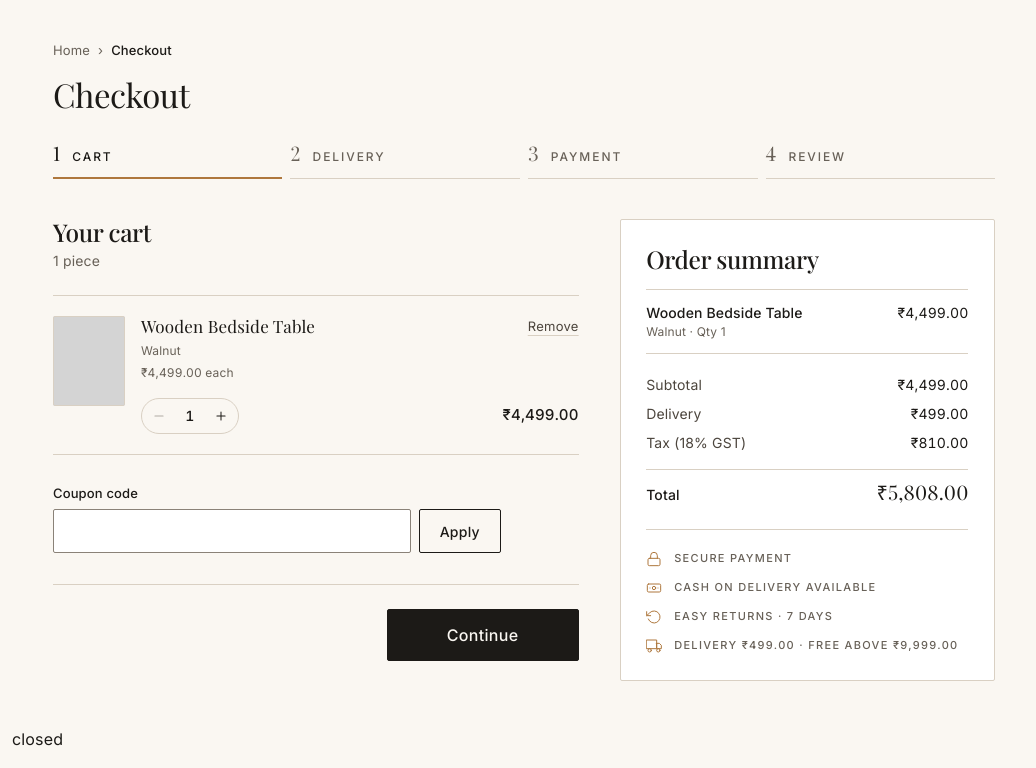
it: step 1: the cart › + raises the quantity through the cart, and the summary follows
The image size is (1036, 768).
Expected: the list named "Our promises" is shown, [646,529,968,654]
Step 1. Click the button named "Increase quantity" → coordinates (221, 416), box [203,398,239,434]
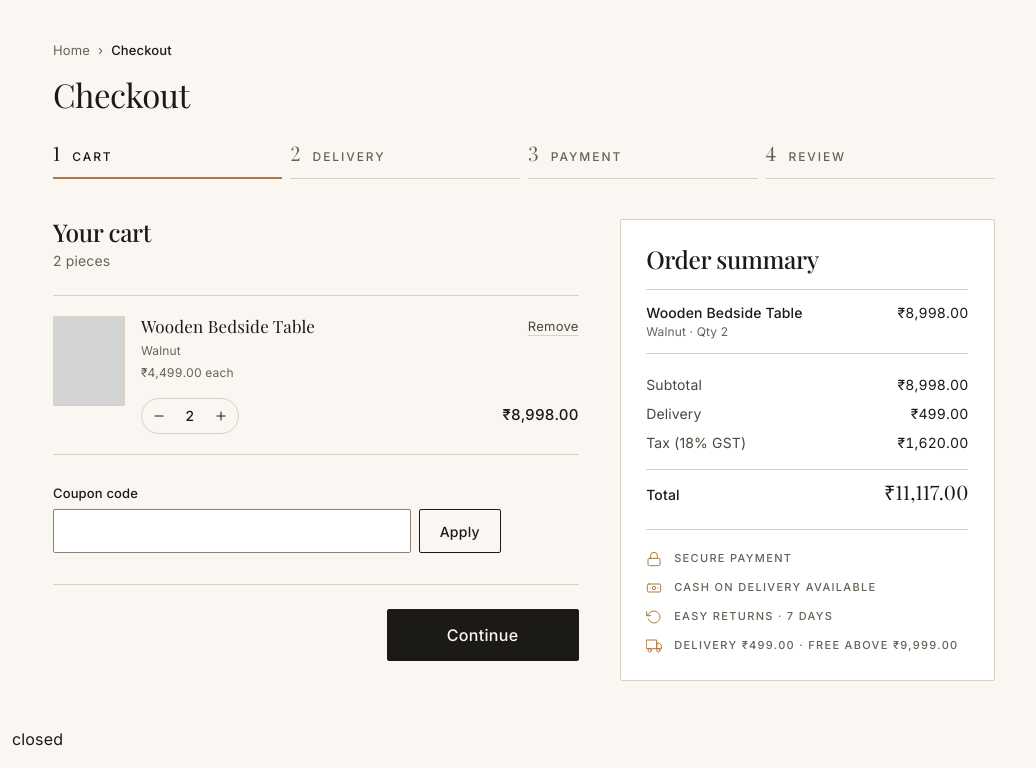
Expected: the element named "Quantity, Wooden Bedside Table, Walnut" reads "2", [185,407,194,424]
